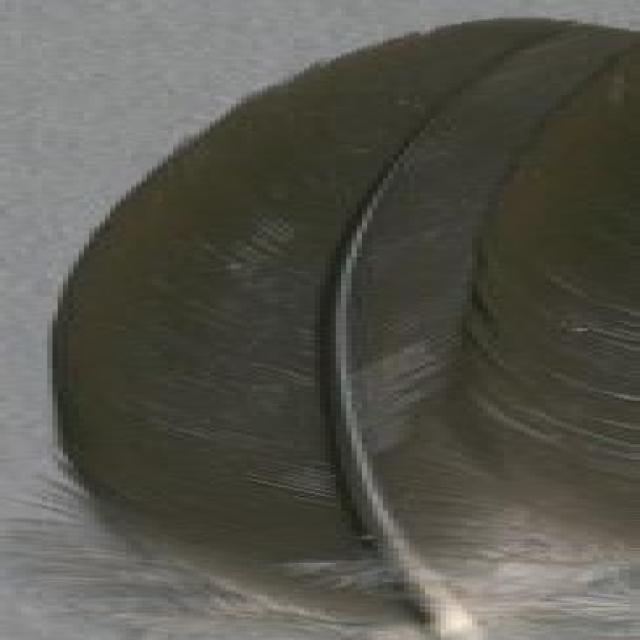feather: (52, 18, 640, 640)
